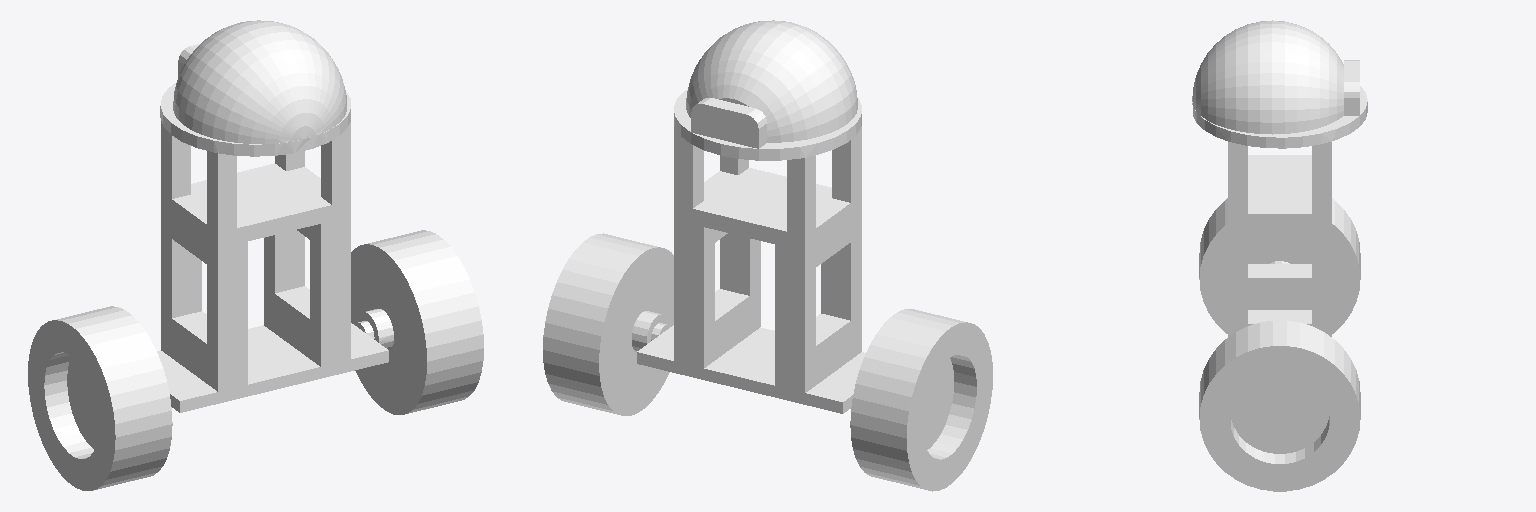
URDF robot description (mycar_description):
<robot
  name="mycar_description">
  <link
    name="body">
    <inertial>
      <origin
        xyz="-3.46944695195361E-18 -0.000646422945483935 0.0455884253598942"
        rpy="0 0 0" />
      <mass
        value="0.0365474725376583" />
      <inertia
        ixx="3.26329834997654E-05"
        ixy="-1.88550033460057E-21"
        ixz="2.62801861772126E-21"
        iyy="3.48332159382441E-05"
        iyz="6.83951771998764E-07"
        izz="8.75024005906324E-06" />
    </inertial>
    <visual>
      <origin
        xyz="0 0 0"
        rpy="0 0 0" />
      <geometry>
        <mesh
          filename="package://mycar_description/meshes/body.STL" />
      </geometry>
      <material
        name="">
        <color
          rgba="1 1 1 1" />
      </material>
    </visual>
    <collision>
      <origin
        xyz="0 0 0"
        rpy="0 0 0" />
      <geometry>
        <mesh
          filename="package://mycar_description/meshes/body.STL" />
      </geometry>
    </collision>
  </link>
  <link
    name="R_wheel">
    <inertial>
      <origin
        xyz="0.010498789346247 1.38777878078145E-17 3.46944695195361E-18"
        rpy="0 0 0" />
      <mass
        value="0.0162184720741573" />
      <inertia
        ixx="3.54374105694189E-06"
        ixy="-2.47483152176292E-22"
        ixz="7.10467694681252E-23"
        iyy="2.06933678659425E-06"
        iyz="-7.16634449861902E-39"
        izz="2.06933678659425E-06" />
    </inertial>
    <visual>
      <origin
        xyz="0 0 0"
        rpy="0 0 0" />
      <geometry>
        <mesh
          filename="package://mycar_description/meshes/R_wheel.STL" />
      </geometry>
      <material
        name="">
        <color
          rgba="1 1 1 1" />
      </material>
    </visual>
    <collision>
      <origin
        xyz="0 0 0"
        rpy="0 0 0" />
      <geometry>
        <mesh
          filename="package://mycar_description/meshes/R_wheel.STL" />
      </geometry>
    </collision>
  </link>
  <joint
    name="joint_Rwheel"
    type="continuous">
    <origin
      xyz="0.0295 0 0.0015"
      rpy="0 4.8186763221578E-17 0" />
    <parent
      link="body" />
    <child
      link="R_wheel" />
    <axis
      xyz="1 0 0" />
  </joint>
  <link
    name="L_wheel">
    <inertial>
      <origin
        xyz="-0.010498789346247 0 3.46944695195361E-18"
        rpy="0 0 0" />
      <mass
        value="0.0162184720741573" />
      <inertia
        ixx="3.54374105694189E-06"
        ixy="2.98844999959475E-22"
        ixz="1.58659667235976E-38"
        iyy="2.06933678659425E-06"
        iyz="1.17549435082229E-38"
        izz="2.06933678659425E-06" />
    </inertial>
    <visual>
      <origin
        xyz="0 0 0"
        rpy="0 0 0" />
      <geometry>
        <mesh
          filename="package://mycar_description/meshes/L_wheel.STL" />
      </geometry>
      <material
        name="">
        <color
          rgba="1 1 1 1" />
      </material>
    </visual>
    <collision>
      <origin
        xyz="0 0 0"
        rpy="0 0 0" />
      <geometry>
        <mesh
          filename="package://mycar_description/meshes/L_wheel.STL" />
      </geometry>
    </collision>
  </link>
  <joint
    name="joint_Lwheel"
    type="continuous">
    <origin
      xyz="-0.0295 0 0.0015"
      rpy="-2.89120579329468E-17 0 0" />
    <parent
      link="body" />
    <child
      link="L_wheel" />
    <axis
      xyz="1 0 0" />
  </joint>
</robot>

--- What the picture shows (computed from the rendered views, not written in the file) ---
Views: 3 orthographic renders of the robot side by side, from view 1: azimuth 30°, elevation 25°; view 2: azimuth 150°, elevation 25°; view 3: azimuth 270°, elevation 25°.
Model mycar_description with 3 links and 2 joints (2 continuous), rooted at body, posed every joint at zero.
Links seen in each view (by area): view 1: body, L_wheel, R_wheel; view 2: body, L_wheel, R_wheel; view 3: body, R_wheel, L_wheel.
Boxes of the visible links, x1,y1,x2,y2 form: body: (157, 20, 388, 412); L_wheel: (28, 306, 172, 490); R_wheel: (351, 230, 483, 414); body: (637, 20, 865, 413); L_wheel: (850, 309, 992, 491); R_wheel: (543, 233, 673, 415); body: (1192, 20, 1367, 336); R_wheel: (1199, 320, 1360, 491); L_wheel: (1199, 198, 1360, 333).
Bounding box of the posed robot: 0.097 × 0.0436 × 0.1043 m (x, y, z).
Meshes: 3 distinct files referenced, 3 mesh visuals loaded (3 binary STL).